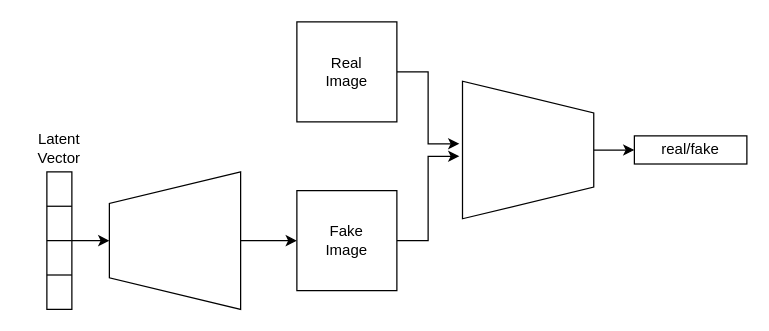
Image size: 769x331. Some labels were removed from this diagram. Each missing label, with the centre of its shape:
Critic: the point at 527,149
Generator: the point at 174,240
